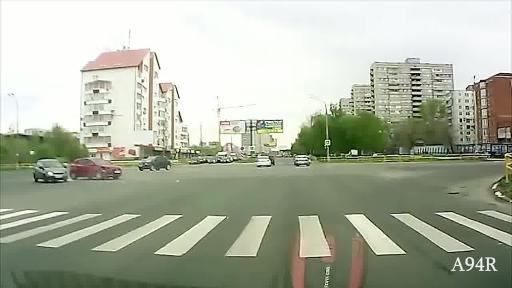Accident: (39, 156, 128, 184), (76, 163, 124, 182)
CAR: (40, 157, 66, 182), (139, 157, 178, 173), (294, 152, 313, 170)
